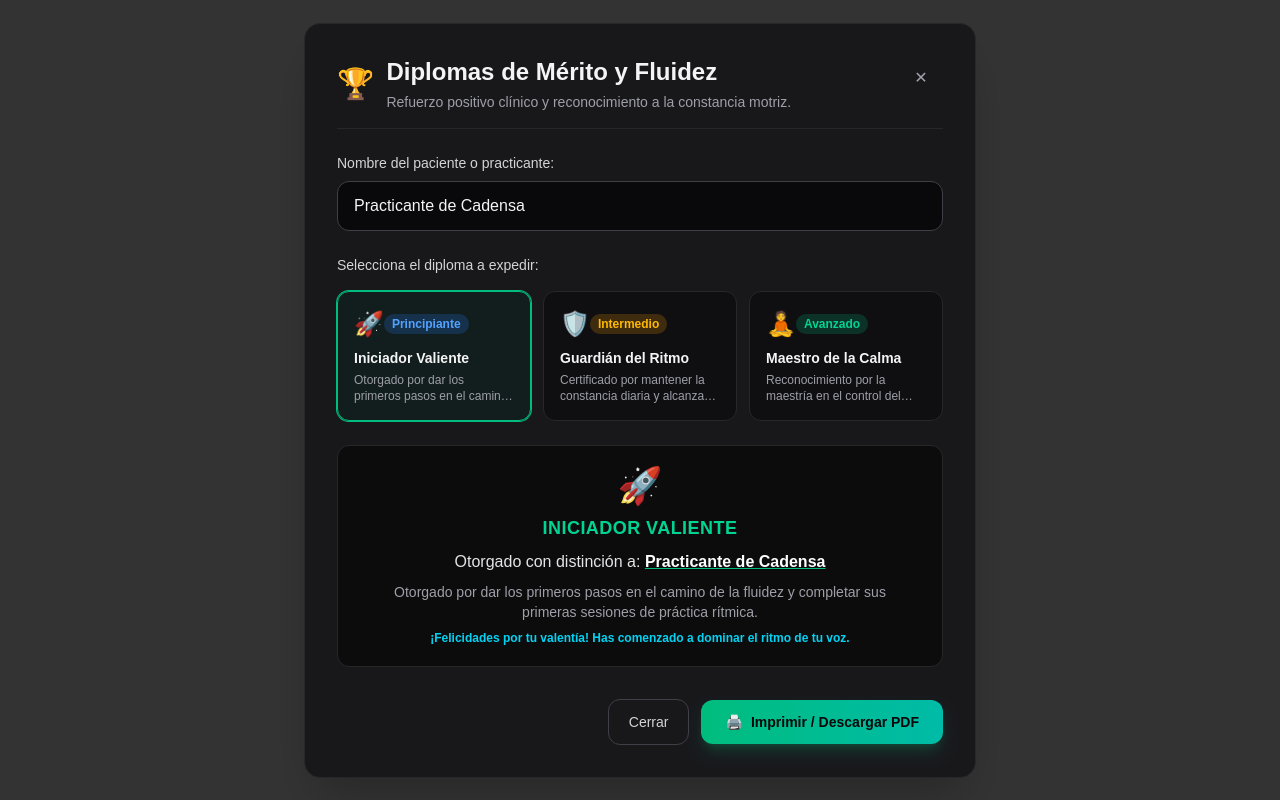
it: FluencyCertificateModal › permite cambiar el nombre del paciente y actualiza la previsualización
The width and height of the screenshot is (1280, 800).
Replace the text in the field labelled "Nombre del paciente o practicante:" with "Mateo González" at [640, 206], box [337,180,943,230]
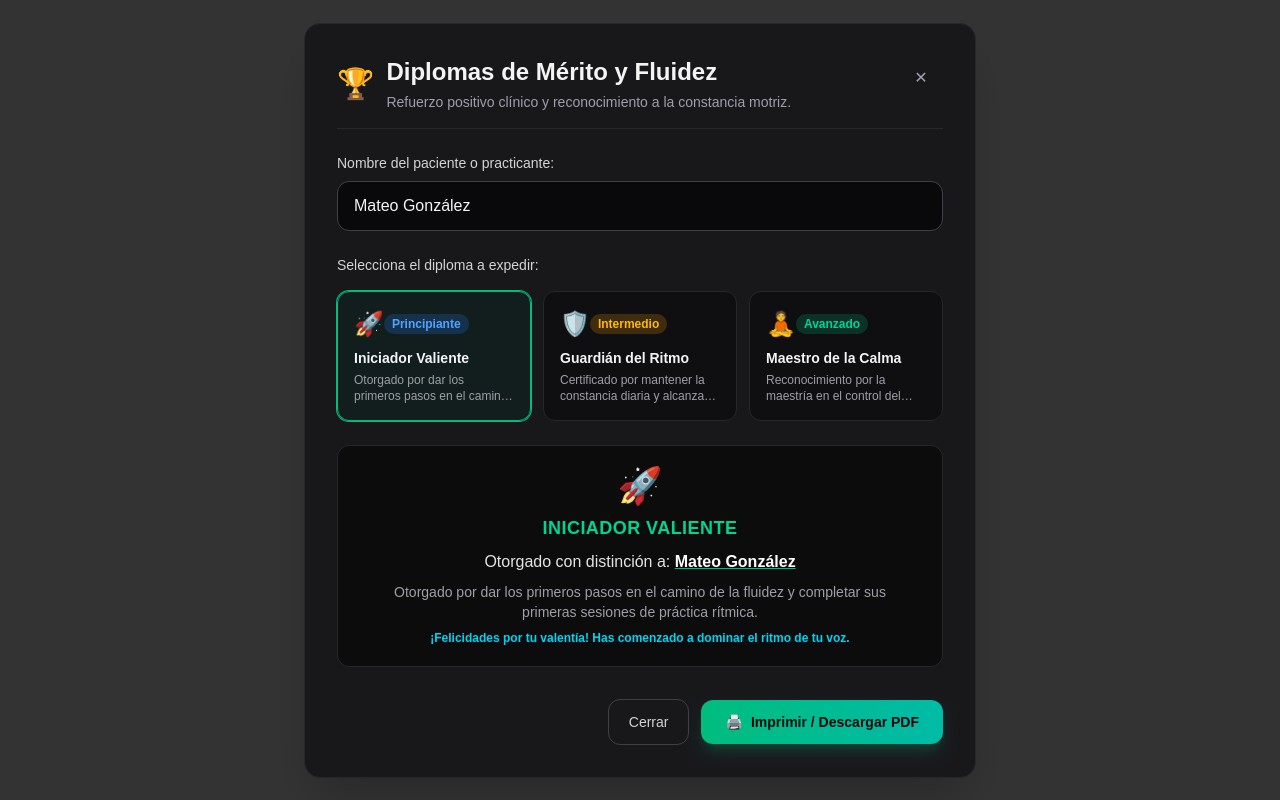
Result: the text "Mateo González" is shown at [675,552,796,570]
